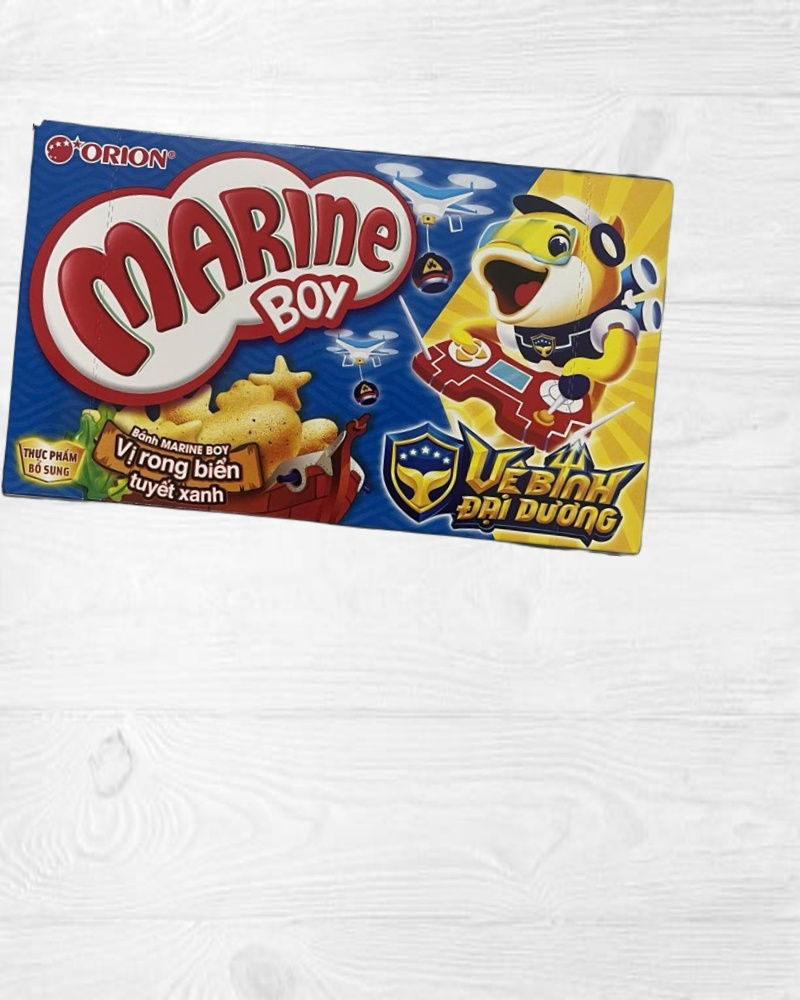Marine: (3, 120, 677, 557)
